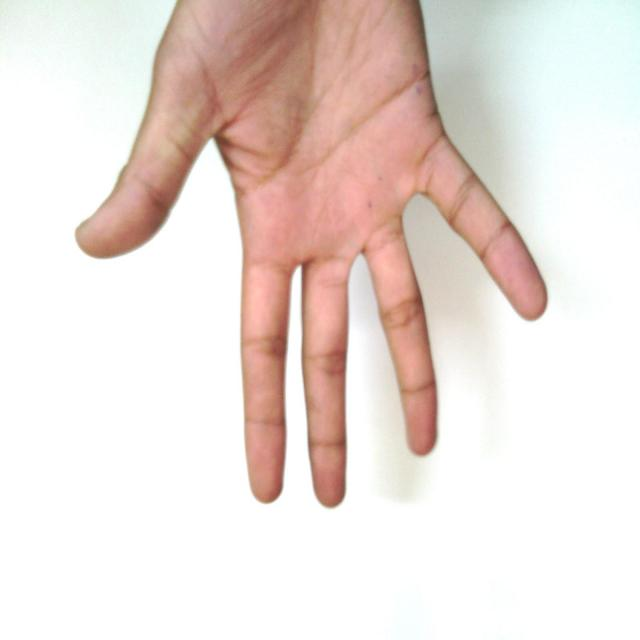others: (63, 0, 560, 509)
